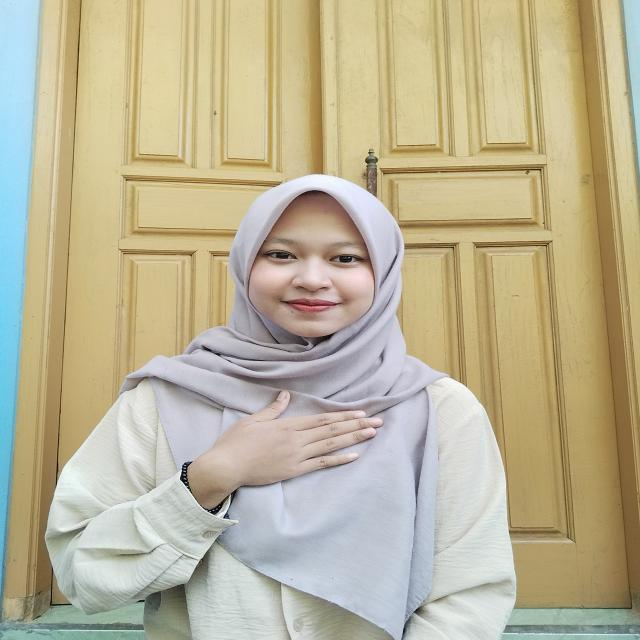tolong: (166, 386, 388, 537)
